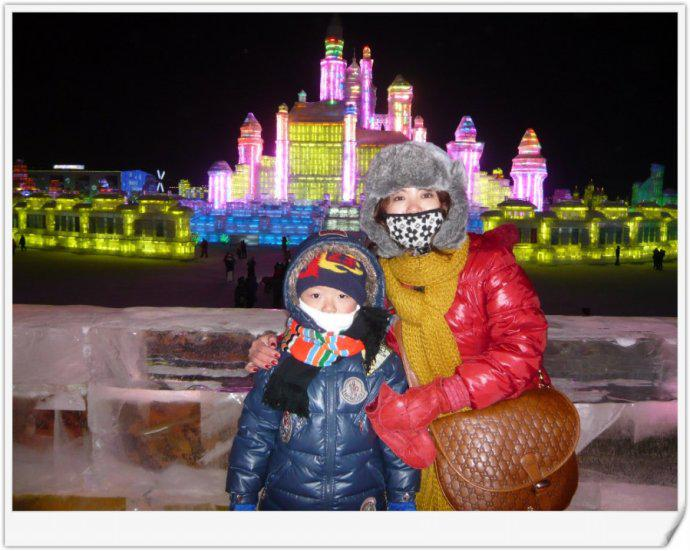WRONG: (374, 180, 451, 257), (294, 282, 360, 348)
